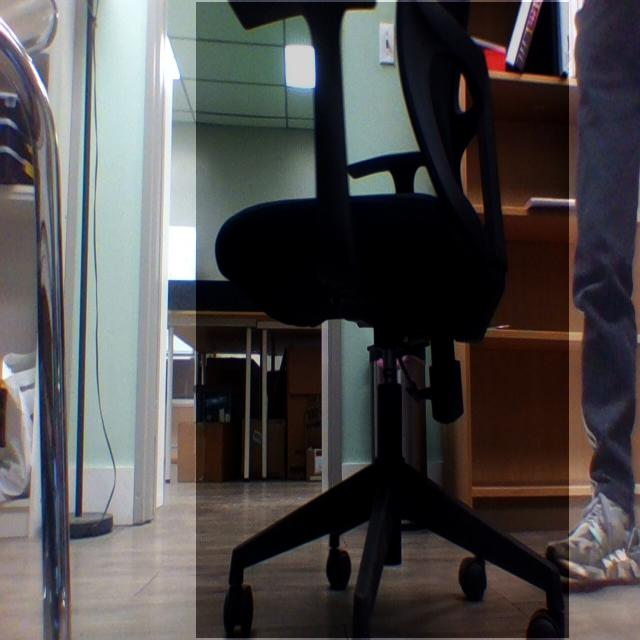black-chair: (196, 2, 570, 639)
